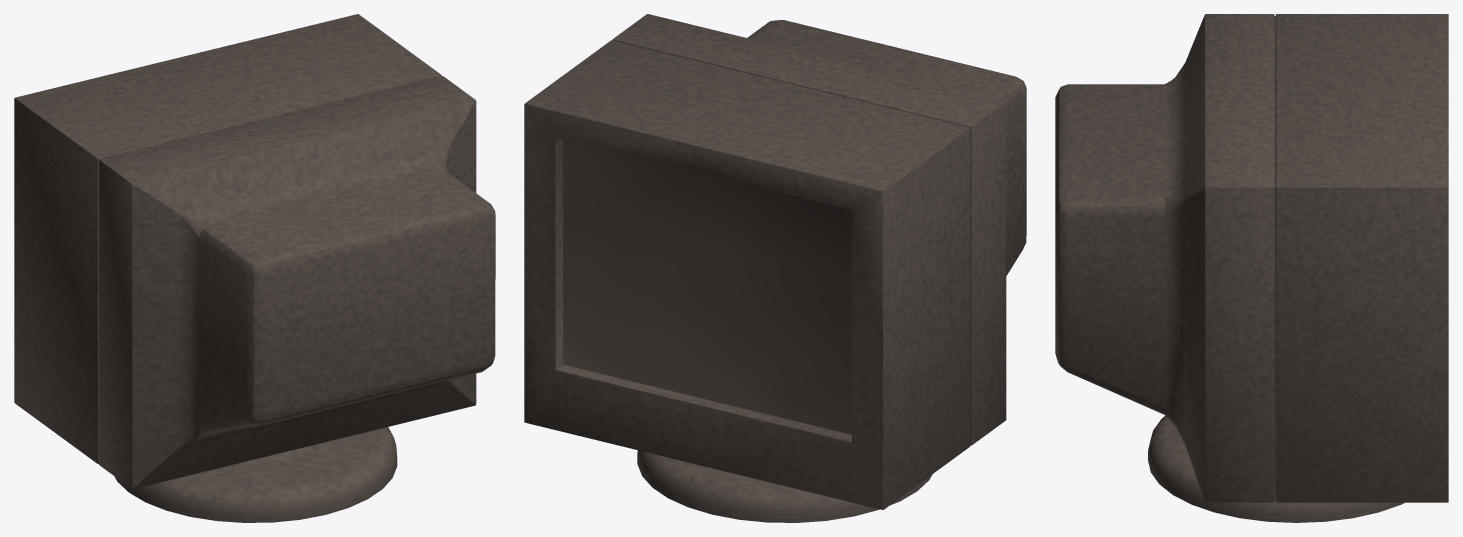
The model's file is computer.glb.
The picture shows the model from 3 angles, left to right: view 1: azimuth 30°, elevation 25°; view 2: azimuth 150°, elevation 25°; view 3: azimuth 270°, elevation 25°; orthographic projection. The views are drawn at different scales.
Visible parts, largest first — view 1: computer-monitor, Cylinder.004; view 2: computer-monitor, Cylinder.004; view 3: computer-monitor, Cylinder.004.
Part boxes in pixels (box(x1,y1,x2,y2)): computer-monitor: box(14, 14, 495, 488); Cylinder.004: box(114, 427, 397, 522); computer-monitor: box(524, 14, 1026, 509); Cylinder.004: box(637, 450, 932, 522); computer-monitor: box(1055, 14, 1448, 502); Cylinder.004: box(1148, 415, 1404, 522).
Size of the model in its own units: 0.7836 by 0.764 by 0.7508.
Materials: 1 (1 with a texture image).
